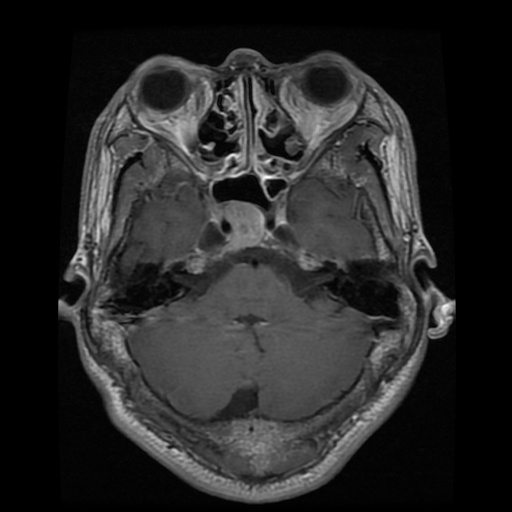pituitary: (225, 202, 267, 248)
